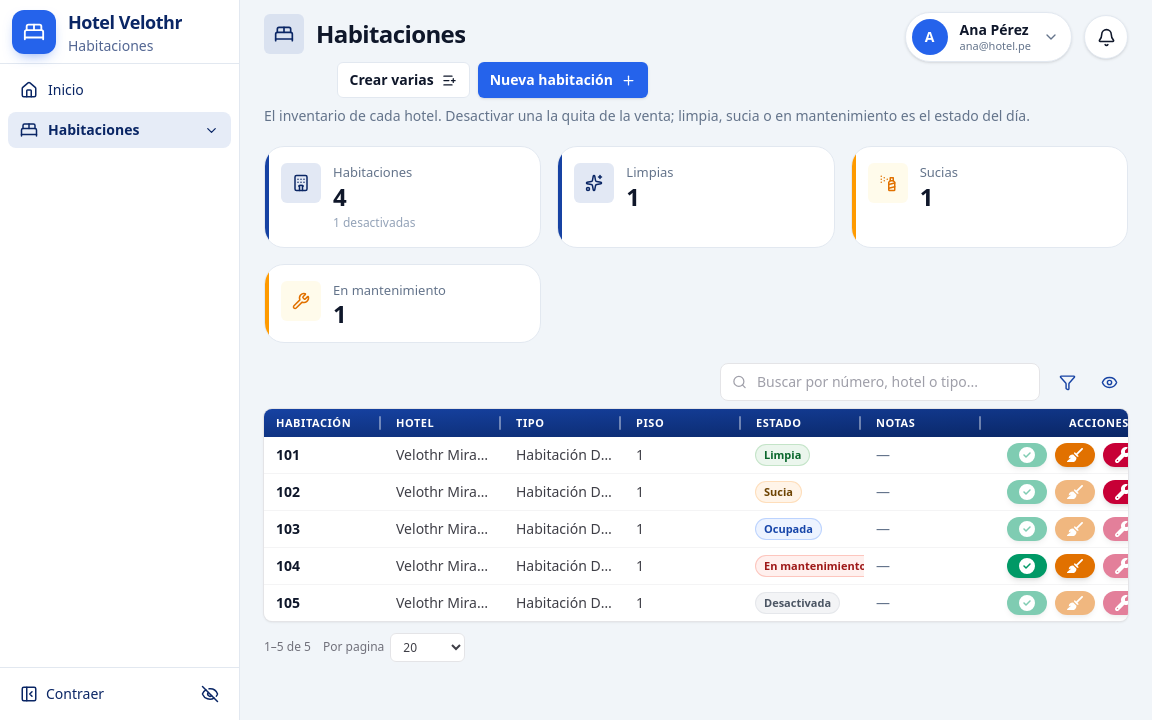
it: Habitaciones › si el servidor rechaza el cambio, lo muestra y vuelve a leer lo real
Click the button named "Marcar sucia la 101" at [1075, 455], box [1055, 443, 1095, 467]
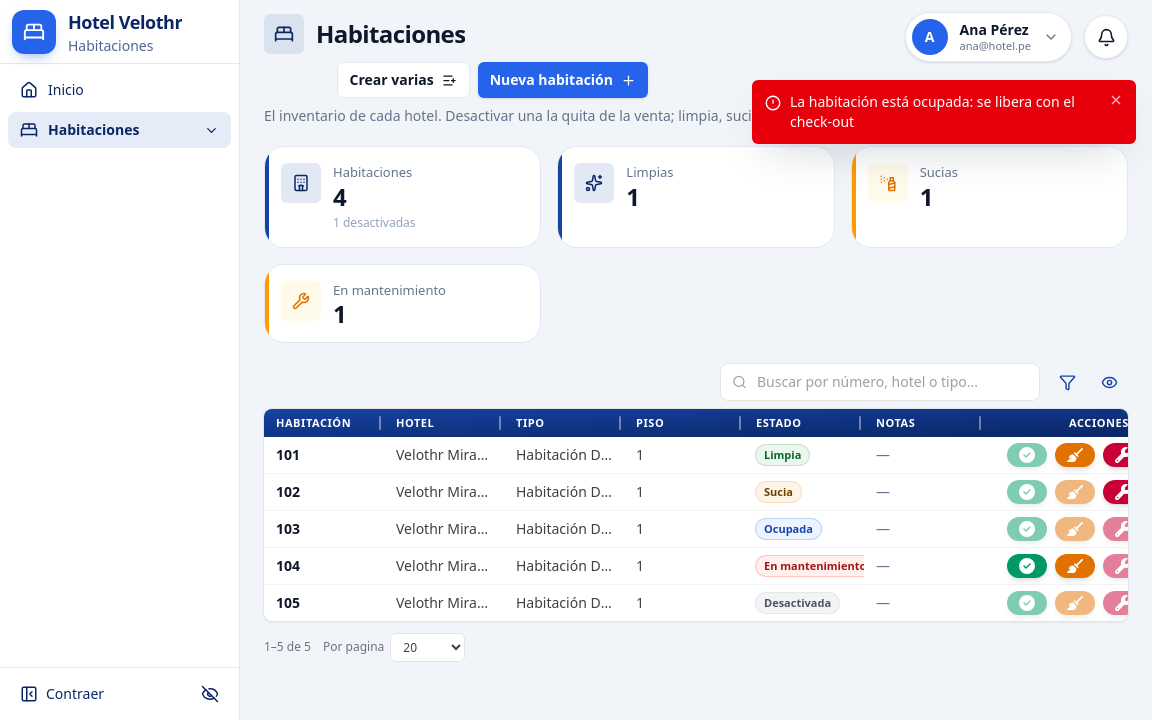
Check: the text "La habitación está ocupada: se libera con el check-out" is shown, box [790, 92, 1100, 132]
